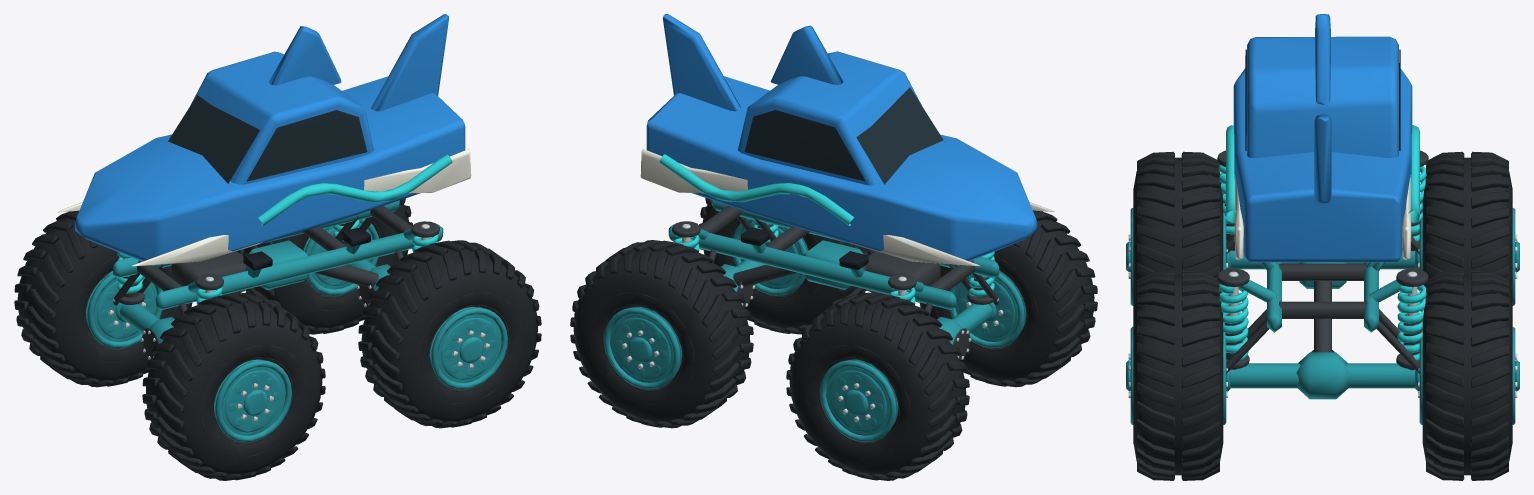
The model's file is Sharkbite.fbx.
The picture shows the model from 3 angles, left to right: view 1: azimuth 30°, elevation 25°; view 2: azimuth 150°, elevation 25°; view 3: azimuth 270°, elevation 25°; orthographic projection. The views are drawn at different scales.
Parts seen in each view (by area): view 1: Sharkbite_LOD0_sprung_body_Geometry, Sharkbite_LOD0_FL_Spin_Geometry, Sharkbite_LOD0_RL_Spin_Geometry, Sharkbite_LOD0_FR_Spin_Geometry, Sharkbite_LOD0_RR_Spin_Geometry, Sharkbite_LOD0_Root_Geometry, Sharkbite_LOD0_FRONT_axle_Geometry, Sharkbite_LOD0_REAR_axle_Geometry, Sharkbite_LOD0_REAR_shock_-1_Geometry, Sharkbite_LOD0_FRONT_shock_-1_Geometry, Sharkbite_LOD0_FRONT_shock_1_Geometry; view 2: Sharkbite_LOD0_sprung_body_Geometry, Sharkbite_LOD0_FR_Spin_Geometry, Sharkbite_LOD0_RR_Spin_Geometry, Sharkbite_LOD0_FL_Spin_Geometry, Sharkbite_LOD0_RL_Spin_Geometry, Sharkbite_LOD0_Root_Geometry, Sharkbite_LOD0_FRONT_axle_Geometry, Sharkbite_LOD0_REAR_axle_Geometry, Sharkbite_LOD0_FRONT_shock_1_Geometry, Sharkbite_LOD0_REAR_shock_1_Geometry, Sharkbite_LOD0_FRONT_shock_-1_Geometry; view 3: Sharkbite_LOD0_sprung_body_Geometry, Sharkbite_LOD0_RL_Spin_Geometry, Sharkbite_LOD0_RR_Spin_Geometry, Sharkbite_LOD0_FR_Spin_Geometry, Sharkbite_LOD0_FL_Spin_Geometry, Sharkbite_LOD0_REAR_axle_Geometry, Sharkbite_LOD0_Root_Geometry, Sharkbite_LOD0_REAR_shock_1_Geometry, Sharkbite_LOD0_REAR_shock_-1_Geometry, Sharkbite_LOD0_FRONT_axle_Geometry, Sharkbite_LOD0_FRONT_shock_1_Geometry, Sharkbite_LOD0_FRONT_shock_-1_Geometry.
Part boxes in pixels (<box>): Sharkbite_LOD0_sprung_body_Geometry: <box>58,14,471,309</box>; Sharkbite_LOD0_FL_Spin_Geometry: <box>142,293,325,480</box>; Sharkbite_LOD0_RL_Spin_Geometry: <box>358,240,541,428</box>; Sharkbite_LOD0_FR_Spin_Geometry: <box>14,211,192,387</box>; Sharkbite_LOD0_RR_Spin_Geometry: <box>237,198,412,334</box>; Sharkbite_LOD0_Root_Geometry: <box>113,216,403,315</box>; Sharkbite_LOD0_FRONT_axle_Geometry: <box>120,304,174,359</box>; Sharkbite_LOD0_REAR_axle_Geometry: <box>347,260,390,307</box>; Sharkbite_LOD0_REAR_shock_-1_Geometry: <box>411,221,439,252</box>; Sharkbite_LOD0_FRONT_shock_-1_Geometry: <box>195,274,223,304</box>; Sharkbite_LOD0_FRONT_shock_1_Geometry: <box>117,252,144,304</box>; Sharkbite_LOD0_sprung_body_Geometry: <box>640,14,1054,309</box>; Sharkbite_LOD0_FR_Spin_Geometry: <box>786,292,969,480</box>; Sharkbite_LOD0_RR_Spin_Geometry: <box>570,240,753,428</box>; Sharkbite_LOD0_FL_Spin_Geometry: <box>916,210,1097,387</box>; Sharkbite_LOD0_RL_Spin_Geometry: <box>699,198,874,334</box>; Sharkbite_LOD0_Root_Geometry: <box>692,216,998,315</box>; Sharkbite_LOD0_FRONT_axle_Geometry: <box>937,303,991,360</box>; Sharkbite_LOD0_REAR_axle_Geometry: <box>721,260,765,307</box>; Sharkbite_LOD0_FRONT_shock_1_Geometry: <box>888,274,916,303</box>; Sharkbite_LOD0_REAR_shock_1_Geometry: <box>672,221,700,250</box>; Sharkbite_LOD0_FRONT_shock_-1_Geometry: <box>967,251,994,304</box>; Sharkbite_LOD0_sprung_body_Geometry: <box>1226,14,1419,332</box>; Sharkbite_LOD0_RL_Spin_Geometry: <box>1126,270,1230,480</box>; Sharkbite_LOD0_RR_Spin_Geometry: <box>1415,270,1519,480</box>; Sharkbite_LOD0_FR_Spin_Geometry: <box>1415,151,1519,306</box>; Sharkbite_LOD0_FL_Spin_Geometry: <box>1126,151,1230,307</box>; Sharkbite_LOD0_REAR_axle_Geometry: <box>1230,350,1415,399</box>; Sharkbite_LOD0_Root_Geometry: <box>1226,235,1419,373</box>; Sharkbite_LOD0_REAR_shock_1_Geometry: <box>1396,268,1428,368</box>; Sharkbite_LOD0_REAR_shock_-1_Geometry: <box>1217,268,1249,368</box>; Sharkbite_LOD0_FRONT_axle_Geometry: <box>1230,250,1415,269</box>; Sharkbite_LOD0_FRONT_shock_1_Geometry: <box>1411,150,1428,249</box>; Sharkbite_LOD0_FRONT_shock_-1_Geometry: <box>1217,150,1234,249</box>.
Bounding box in the file's own units: 534 × 477 × 414.
